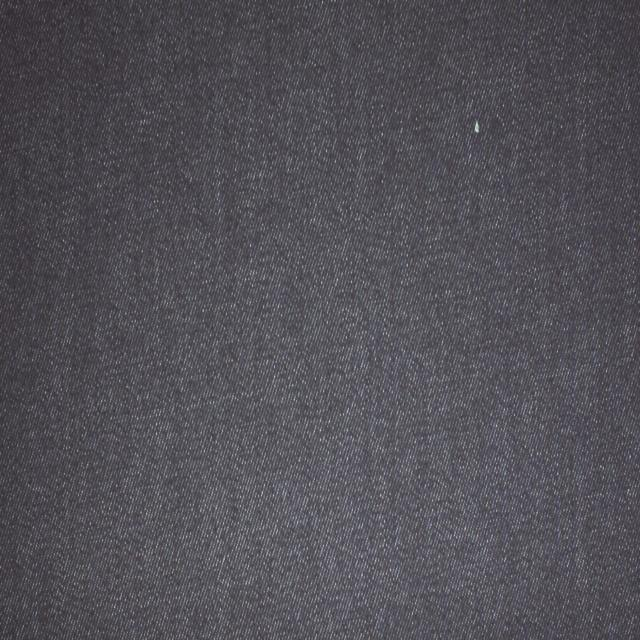Knot: (475, 119, 481, 134)
